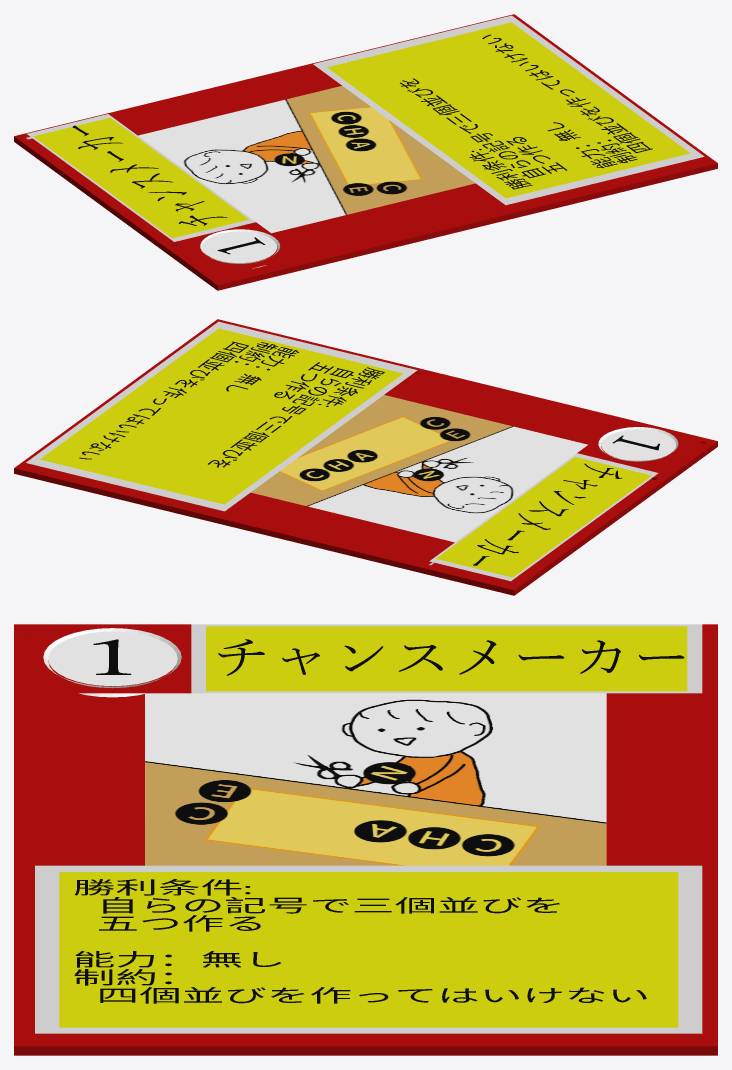
The model's file is チャンスメーカー赤.fbx.
The picture shows the model from 3 angles, top to bottom: view 1: azimuth 30°, elevation 25°; view 2: azimuth 150°, elevation 25°; view 3: azimuth 270°, elevation 25°; orthographic projection. The views are drawn at different scales.
Visible parts, largest first — view 1: 説明欄, 平面.001, カード本体.001, 名前欄, 説明文, 円, 平面, 名前; view 2: 説明欄, 平面.001, カード本体.001, 名前欄, 説明文, 円, 平面, 名前; view 3: 説明欄, 平面.001, カード本体.001, 名前欄, 説明文, 円, 平面, 名前, コスト蘭.
Boxes of the visible parts, x1,y1,x2,y2 form: 説明欄: (313, 15, 704, 205); 平面.001: (138, 86, 475, 233); カード本体.001: (14, 14, 717, 290); 名前欄: (27, 114, 255, 241); 説明文: (400, 34, 652, 189); 円: (202, 231, 276, 262); 平面: (174, 222, 302, 275); 名前: (72, 125, 227, 225); 説明欄: (26, 321, 417, 511); 平面.001: (251, 395, 587, 542); カード本体.001: (14, 319, 717, 595); 名前欄: (429, 453, 658, 581); 説明文: (79, 341, 384, 467); 円: (601, 429, 675, 460); 平面: (577, 419, 704, 472); 名前: (473, 463, 621, 565); 説明欄: (35, 865, 702, 1033); 平面.001: (145, 693, 606, 865); カード本体.001: (14, 624, 717, 1055); 名前欄: (191, 624, 702, 693); 説明文: (74, 879, 646, 1003); 円: (48, 631, 177, 686); 平面: (30, 624, 191, 693); 名前: (218, 639, 684, 675); コスト蘭: (43, 628, 181, 697).
Bounding box in the file's own units: 281 × 6.07 × 198.
Materials: 13 (1 with a texture image).
